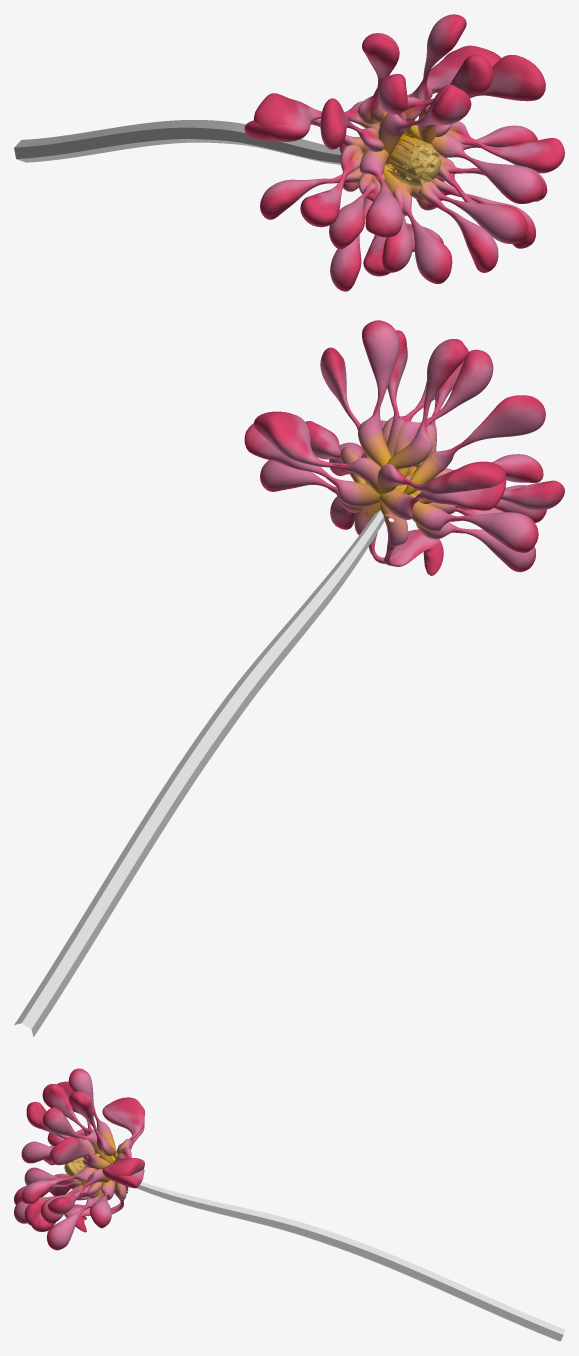
3 renders of one model, top to bottom at view 1: azimuth 30°, elevation 25°; view 2: azimuth 150°, elevation 25°; view 3: azimuth 270°, elevation 25°, orthographic. The views are drawn at different scales.
Visible parts, largest first — view 1: LOD 0_12354301473551943262_6ce4b76265bb7814c8655d2aa02cba96; view 2: LOD 0_12354301473551943262_6ce4b76265bb7814c8655d2aa02cba96; view 3: LOD 0_12354301473551943262_6ce4b76265bb7814c8655d2aa02cba96.
Boxes of the visible parts, <box> form: LOD 0_12354301473551943262_6ce4b76265bb7814c8655d2aa02cba96: <box>14,14,564,291</box>; LOD 0_12354301473551943262_6ce4b76265bb7814c8655d2aa02cba96: <box>14,320,564,1037</box>; LOD 0_12354301473551943262_6ce4b76265bb7814c8655d2aa02cba96: <box>14,1068,564,1341</box>.
Size of the model in its own units: 5.91 by 8.7 by 16.68.
